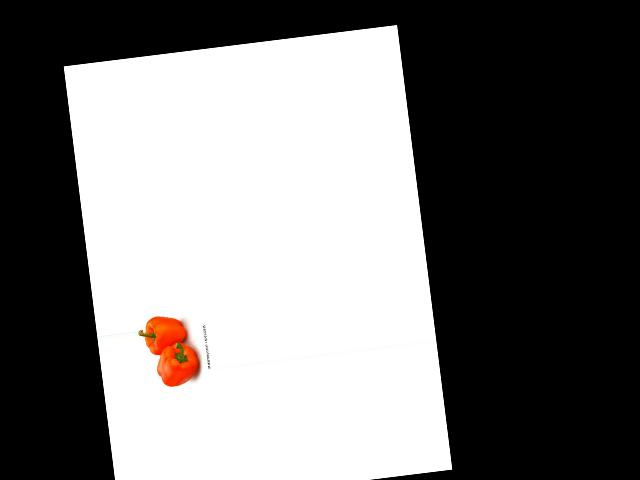bell_pepper: (152, 338, 205, 389)
